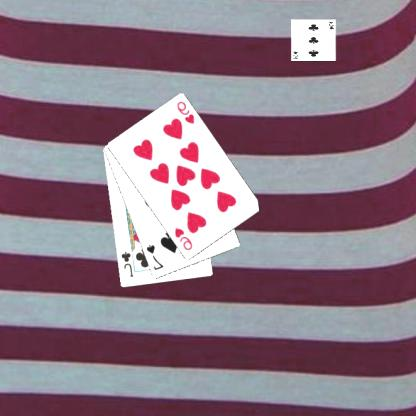7S: (145, 242, 167, 272)
9H: (173, 225, 196, 252), (176, 98, 197, 126)
JC: (120, 249, 136, 279)
